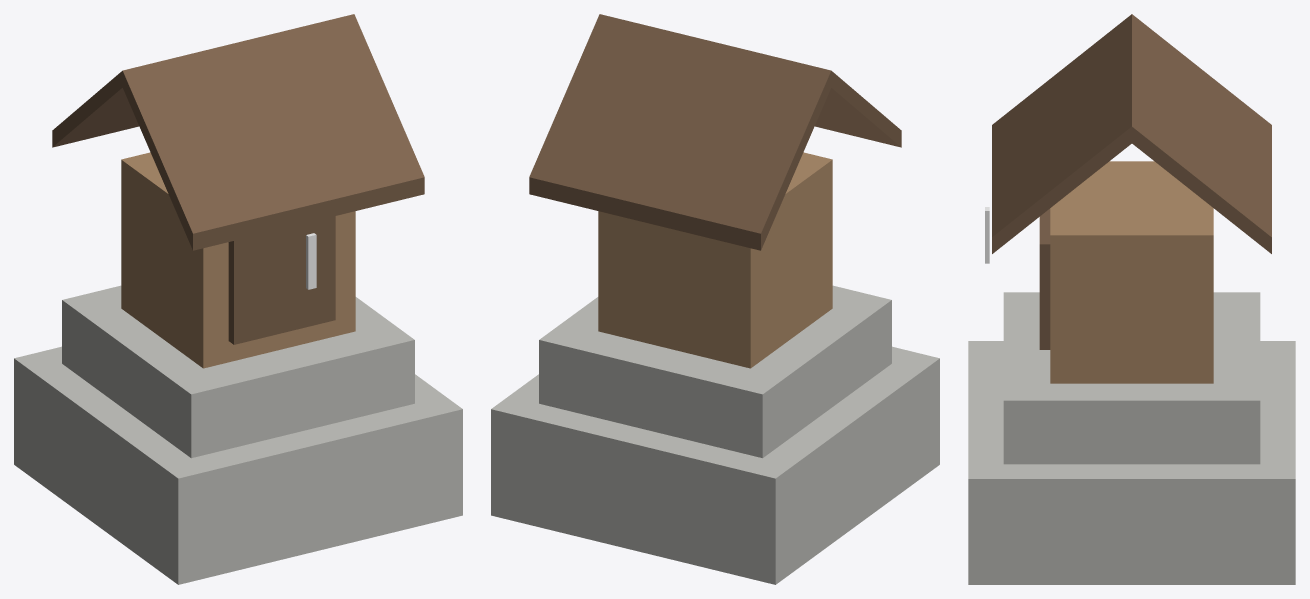
File: hokora.glb
3 renders of one model, left to right at view 1: azimuth 30°, elevation 25°; view 2: azimuth 150°, elevation 25°; view 3: azimuth 270°, elevation 25°, orthographic.
Visible parts, largest first — view 1: hokora; view 2: hokora; view 3: hokora.
Boxes of the visible parts, x1,y1,x2,y2 form: hokora: (14, 14, 462, 584); hokora: (491, 14, 939, 584); hokora: (968, 14, 1295, 584).
Size of the model in its own units: 1.4 by 2.11 by 1.4.
